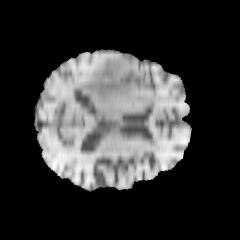glioma: (79, 57, 134, 101)
